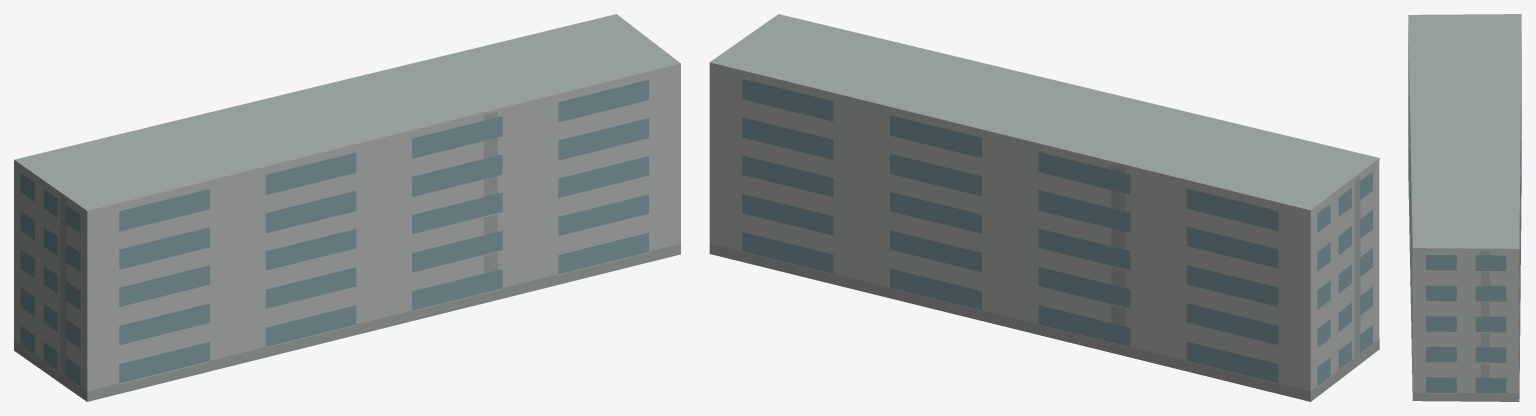
The model's file is residential-1f5dbe99-a572-46d8-b543-3b388a4350df.glb.
3 views of the same model, side by side, from view 1: azimuth 30°, elevation 25°; view 2: azimuth 150°, elevation 25°; view 3: azimuth 270°, elevation 25° (orthographic). The views are drawn at different scales.
Parts seen in each view (by area): view 1: residential-1f5dbe99-a572-46d8-b543-3b388a4350df.tmp; view 2: residential-1f5dbe99-a572-46d8-b543-3b388a4350df.tmp; view 3: residential-1f5dbe99-a572-46d8-b543-3b388a4350df.tmp.
Boxes of the visible parts, bbox=[...] form: residential-1f5dbe99-a572-46d8-b543-3b388a4350df.tmp: bbox=[14, 14, 680, 401]; residential-1f5dbe99-a572-46d8-b543-3b388a4350df.tmp: bbox=[709, 14, 1379, 401]; residential-1f5dbe99-a572-46d8-b543-3b388a4350df.tmp: bbox=[1408, 14, 1521, 401].
Bounding box in the file's own units: 50.22 × 15.25 × 10.25.
